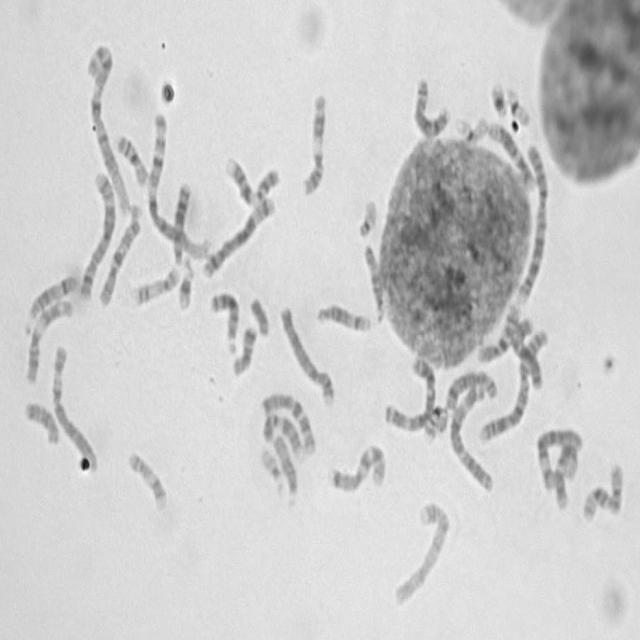A1: (142, 106, 212, 262), (85, 36, 134, 218)
A2: (477, 323, 547, 444), (515, 138, 551, 306)
A3: (446, 377, 495, 494), (381, 356, 437, 435)
B4: (391, 500, 452, 609), (277, 301, 336, 407)
B5: (199, 190, 277, 280), (78, 167, 117, 302)
C10: (96, 206, 143, 308), (475, 298, 522, 366)
C11: (22, 294, 74, 386), (300, 88, 328, 198)
C12: (485, 116, 537, 192), (551, 442, 581, 512)
C6: (49, 339, 100, 474), (534, 422, 583, 493)
C7: (258, 386, 319, 458), (327, 438, 387, 494)
C8: (411, 72, 452, 141), (443, 365, 498, 413)
C9: (222, 151, 280, 208), (260, 406, 306, 459)
D13: (206, 286, 241, 356), (170, 176, 192, 267)
D14: (24, 270, 78, 322), (313, 298, 373, 334)
D15: (270, 429, 300, 505), (360, 240, 386, 326)
E16: (113, 128, 149, 188), (420, 404, 448, 448)
E17: (125, 446, 169, 512), (130, 261, 181, 308)
E18: (22, 396, 61, 447), (230, 320, 258, 377)
F19: (451, 109, 490, 146), (504, 83, 532, 128)
F20: (580, 481, 612, 524), (606, 458, 625, 516)
G21: (176, 255, 196, 312), (488, 76, 509, 118)
G22: (258, 443, 285, 494), (355, 194, 378, 239)
X: (508, 312, 544, 392)
Y: (247, 292, 270, 338)
